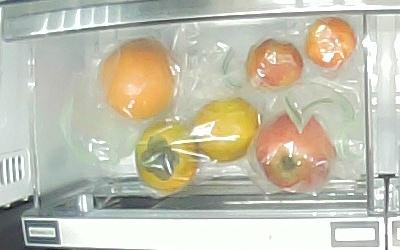apple_vinyl: (255, 113, 337, 191)
grapefruit_vinyl: (100, 37, 180, 120)
persimmon_vinyl: (191, 96, 261, 163), (134, 118, 195, 192)
prune_vinyl: (246, 36, 302, 90), (304, 16, 357, 69)
